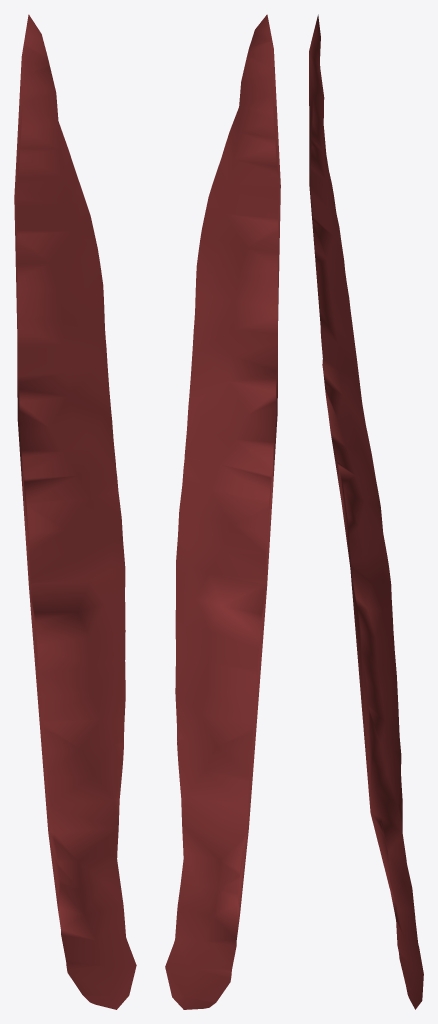
File: extensor-hallucis-longus-or.glb
The picture shows the model from 3 angles, left to right: view 1: azimuth 30°, elevation 25°; view 2: azimuth 210°, elevation 25°; view 3: azimuth 330°, elevation 25°; orthographic projection. The views are drawn at different scales.
Visible parts, largest first — view 1: Extensor hallucis longus.or; view 2: Extensor hallucis longus.or; view 3: Extensor hallucis longus.or.
Part boxes in pixels (left/top/right/bottom): Extensor hallucis longus.or: left=14, top=14, right=136, bottom=1009; Extensor hallucis longus.or: left=165, top=14, right=280, bottom=1009; Extensor hallucis longus.or: left=309, top=14, right=423, bottom=1009.
Bounding box in the file's own units: 0.018 × 0.1452 × 0.0126.
